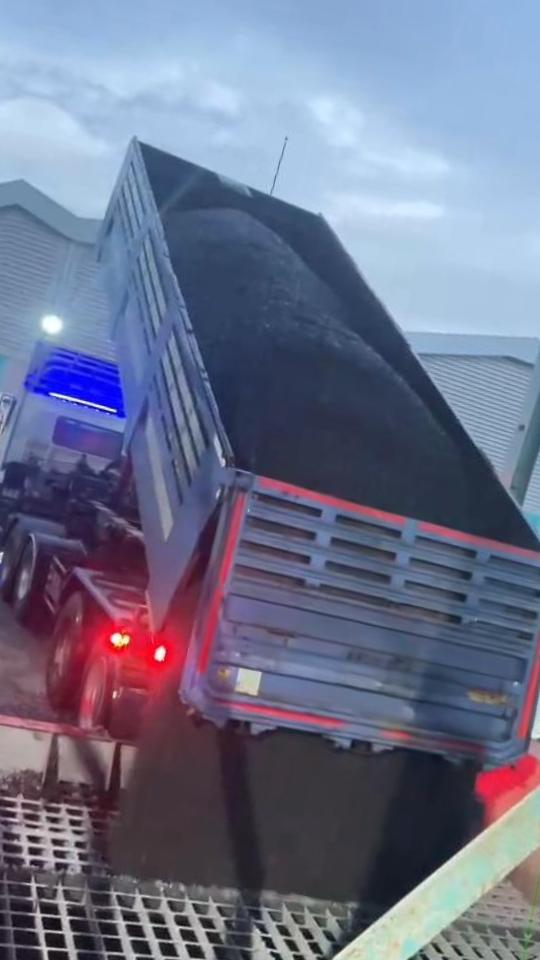gravel: (164, 209, 496, 536), (113, 676, 472, 901)
